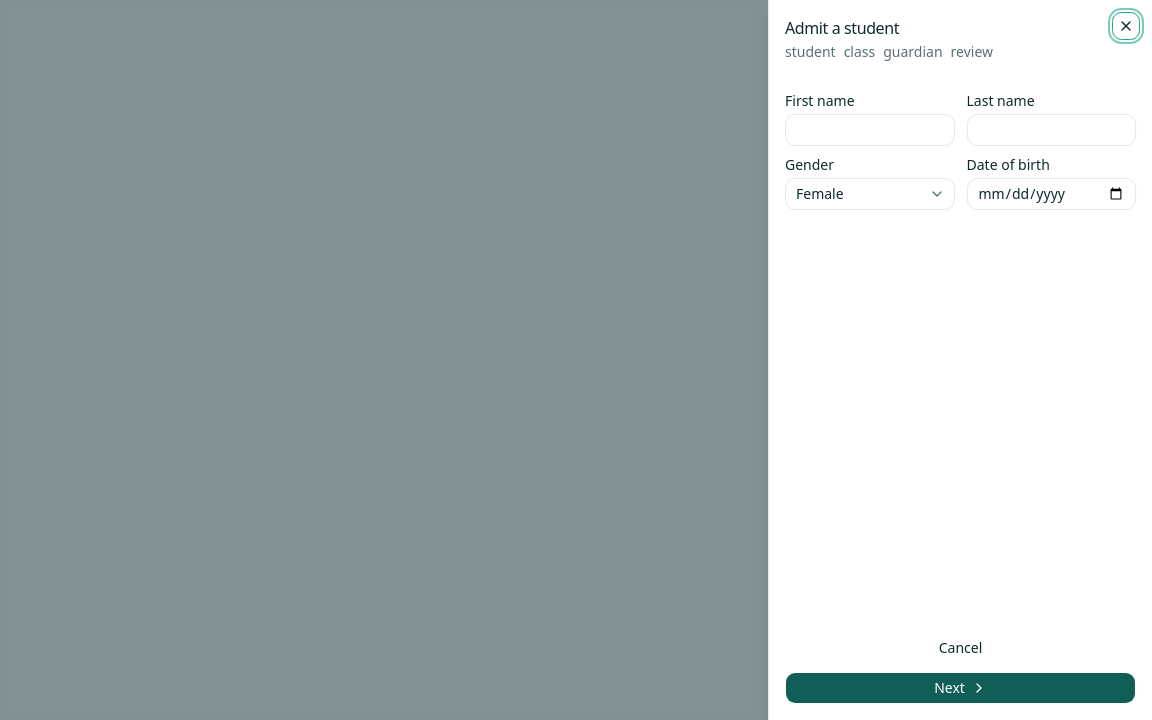
Test: AdmitStudentSheet step 2 › keeps what was typed when going Back
Step 1. Type "Peace" into the field labelled "First name" → coordinates (870, 130), box [785, 114, 954, 146]
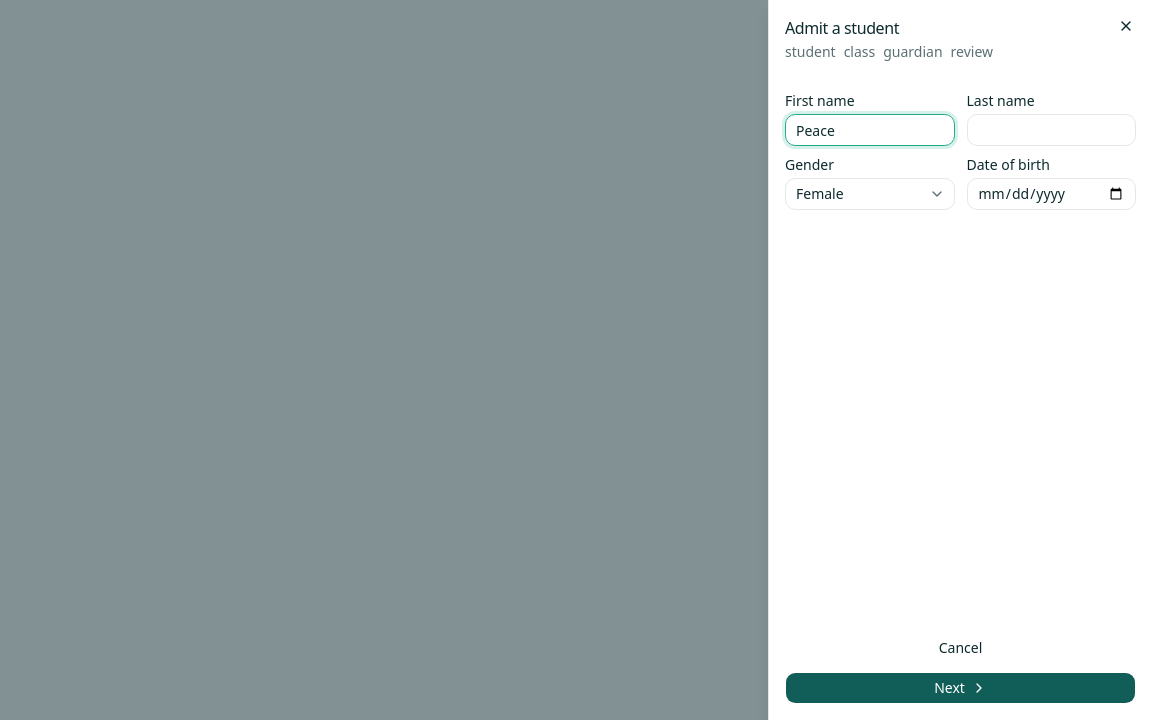
Step 2. Type "Udoh" into the field labelled "Last name" → coordinates (1051, 130), box [966, 114, 1136, 146]
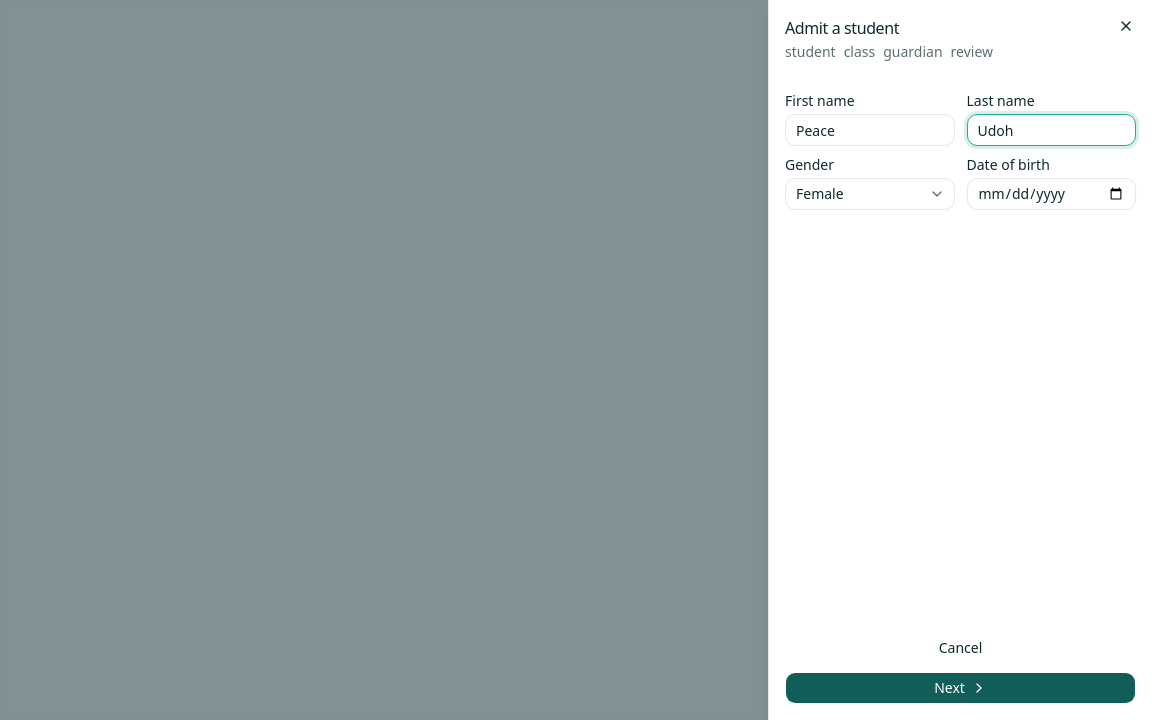
Step 3. Type "2014-03-03" into the date field labelled "Date of birth" → coordinates (1051, 194), box [966, 178, 1136, 210]
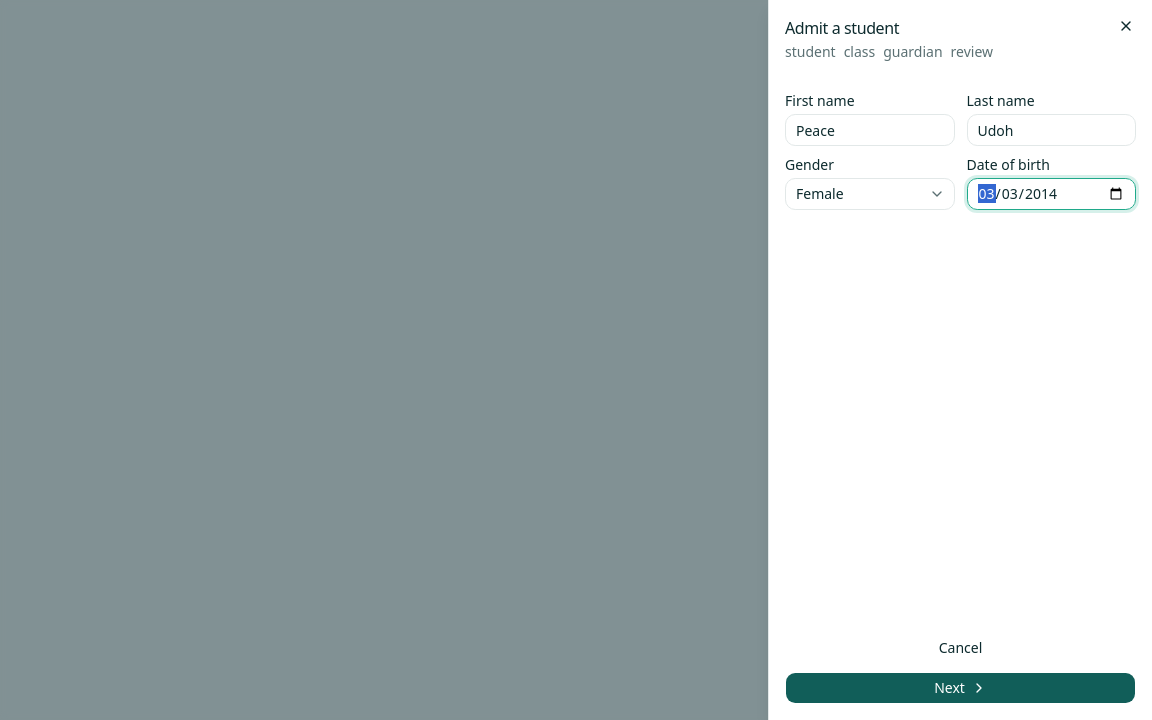
Step 4. Click the button "Next" → coordinates (960, 688), box [785, 672, 1136, 704]
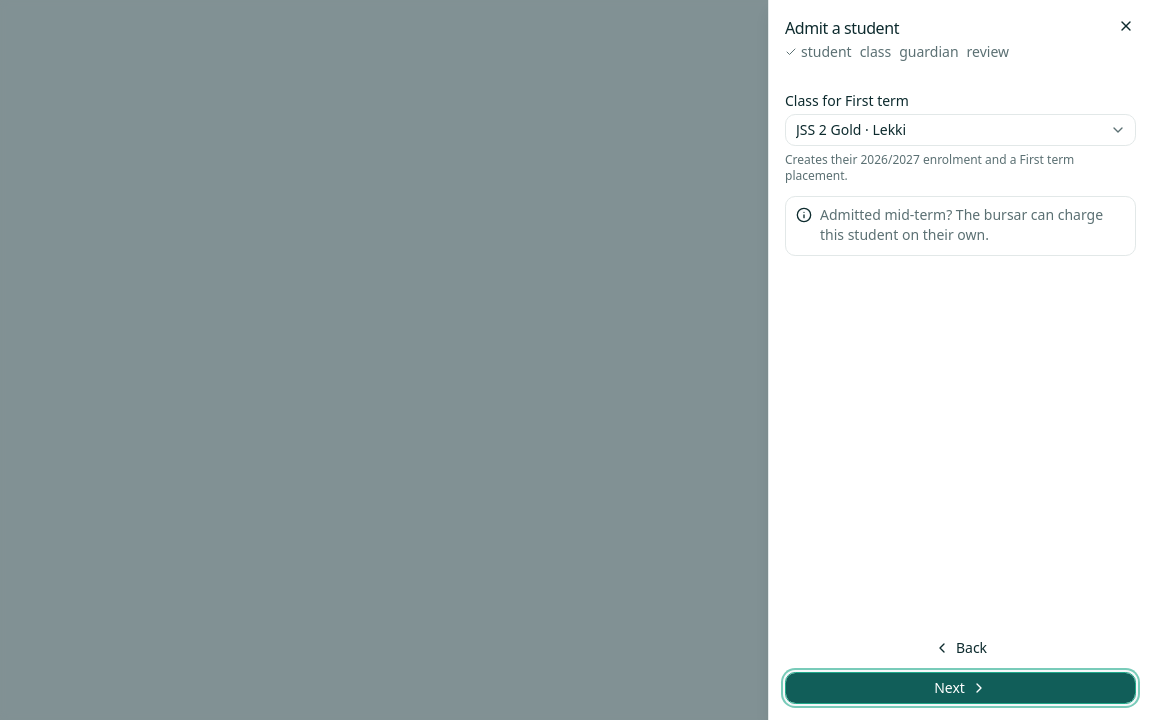
Expected: the dropdown labelled "Class for First term" is shown, [785, 114, 1136, 146]
Step 5. Click the button "Back" → coordinates (960, 648), box [785, 632, 1136, 664]
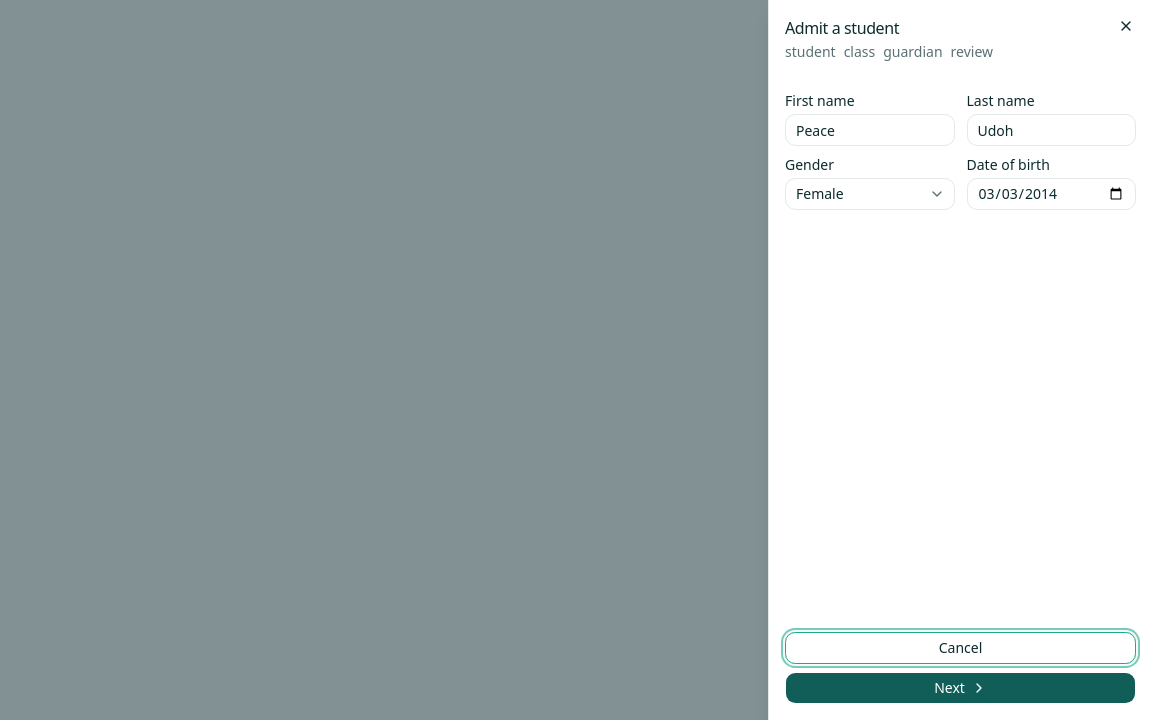
Expected: the field labelled "First name" holds "Peace", [785, 114, 954, 146]
Expected: the field labelled "Last name" holds "Udoh", [966, 114, 1136, 146]
Expected: the date field labelled "Date of birth" holds "2014-03-03", [966, 178, 1136, 210]
